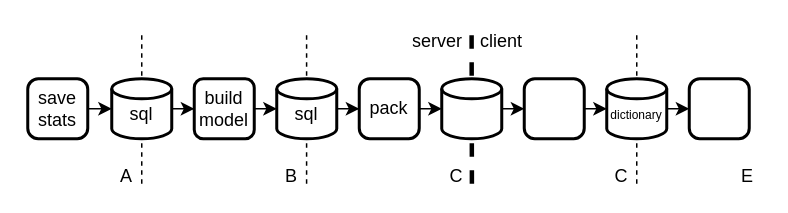
Image size: 788x213. Some labels were removed from this diagram. The shapes that lost their labels are listed below. From the top down, each one's centre as x and y in pixels, then its label:
At (x=471, y=108): "redis".
At (x=553, y=108): "unpack".
At (x=718, y=108): "calc".
